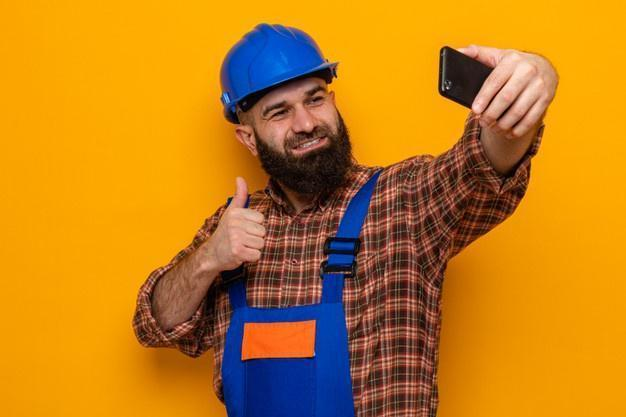helmet: (220, 23, 339, 124)
